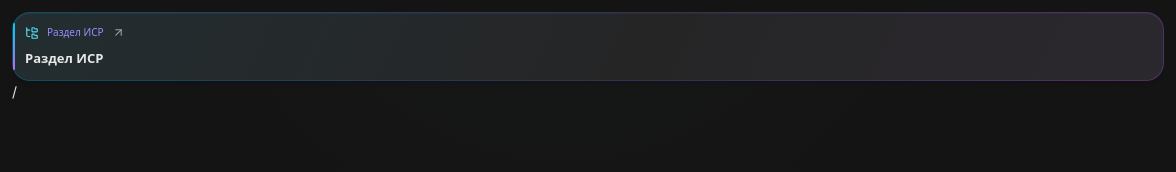
Test case: сохраняет переход к разделу ИСР
Step 1. Click the button with aria-label "Раздел ИСР: Раздел ИСР" → [75, 32], box left=12, top=12, right=1164, bottom=81
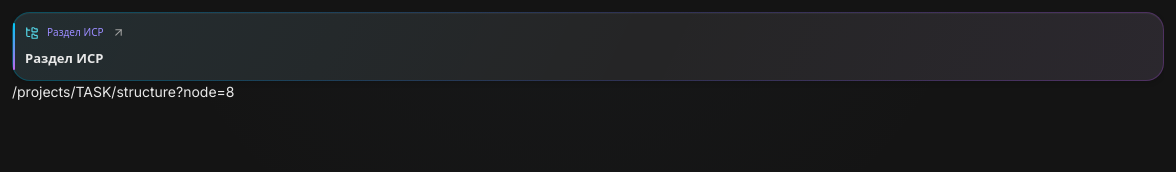
Expected: the text named "Адрес" reads "/projects/TASK/structure?node=8", left=12, top=83, right=234, bottom=100
